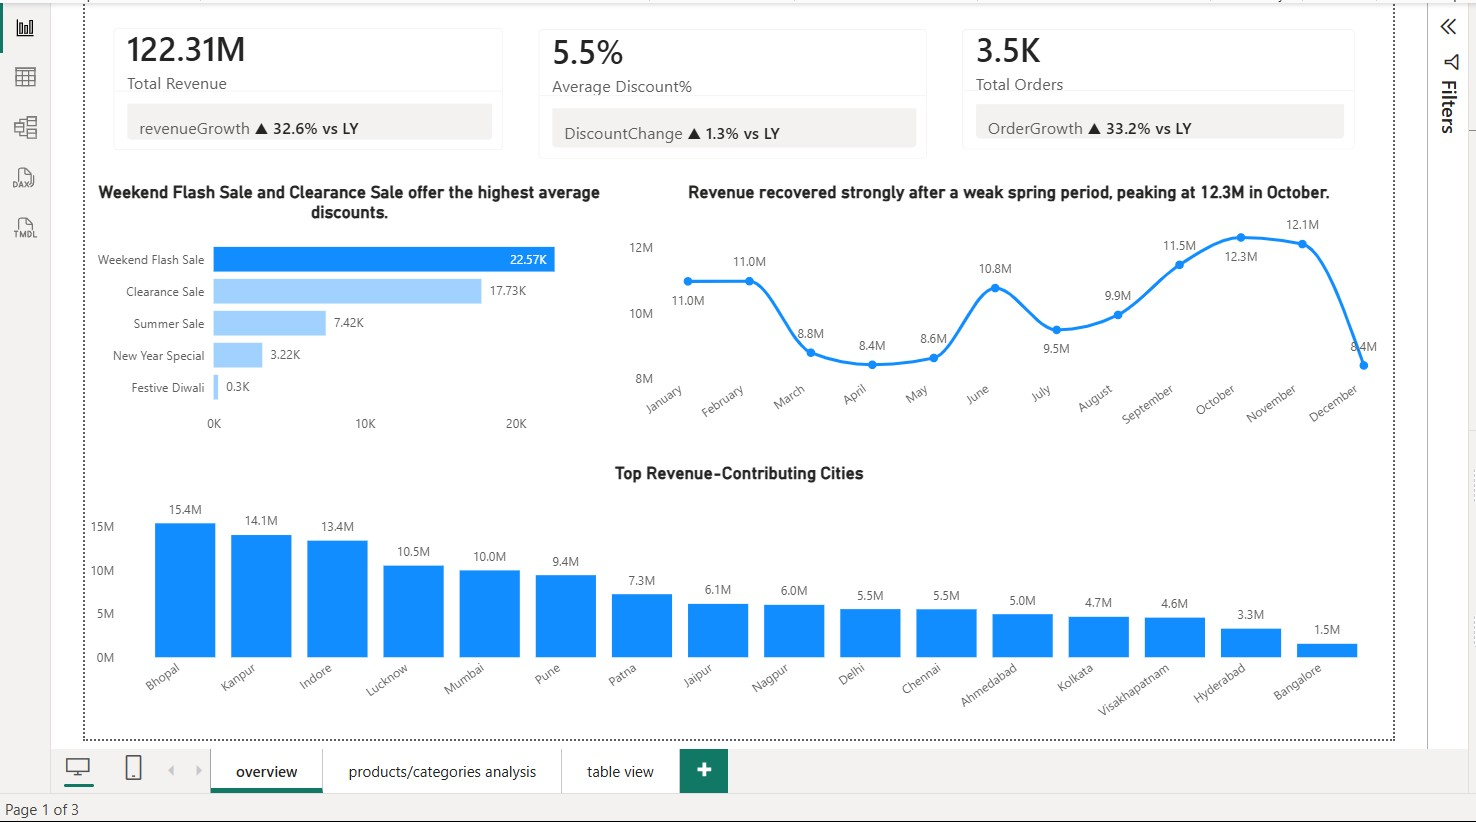

The page's visual inventory and layout, read from the dashboard file:
{"tool":"powerbi","page":{"name":"overview","canvas":[1280,720],"ordinal":0},"visuals":[{"type":"lineChart","title":"Revenue recovered strongly after a weak spring period, peaking at 12.3M in October.","fields":{"Y":["Sum(Fact table.Net sales)"],"Category":["Date Table.Date.Variation.Date Hierarchy.Month"]},"box":[527,174.9,753.3,260.5],"z":0},{"type":"clusteredColumnChart","title":"Top Revenue-Contributing Cities","fields":{"Category":["Dim Customers.City"],"Y":["Sum(Fact table.Net sales)"]},"box":[0,450,1280.3,270.2],"z":1000},{"type":"barChart","title":"Weekend Flash Sale and Clearance Sale offer the highest average discounts.","fields":{"Category":["Dim Promotion.Promotion Name"],"Y":["Avg(Fact table.Discount)"]},"box":[0,174.9,517.3,255.6],"z":2000},{"type":"cardVisual","fields":{"Data":["Fact table.Average Discount%"]},"box":[426.8,8.6,414.5,161.4],"z":3000},{"type":"cardVisual","fields":{"Data":["Fact table.Total Revenue"]},"box":[11,7.3,415.8,154.1],"z":4000},{"type":"cardVisual","fields":{"Data":["Date Table.Total Orders"]},"box":[841.3,8.6,418.2,152.9],"z":5000}]}

Visuals, with their boxes on the page's 1280x720 design canvas (x1, y1, x2, y2). These are canvas units, not pixel positions in the 1476x822 screenshot, which may show the page scaled, cropped or inside an application window:
"Revenue recovered strongly after a weak spring period, peaking at 12.3M in October." lineChart: <region>527, 175, 1280, 435</region>
"Top Revenue-Contributing Cities" clusteredColumnChart: <region>0, 450, 1280, 720</region>
"Weekend Flash Sale and Clearance Sale offer the highest average discounts." barChart: <region>0, 175, 517, 430</region>
cardVisual - Fact table.Average Discount%: <region>427, 9, 841, 170</region>
cardVisual - Fact table.Total Revenue: <region>11, 7, 427, 161</region>
cardVisual - Date Table.Total Orders: <region>841, 9, 1260, 162</region>
